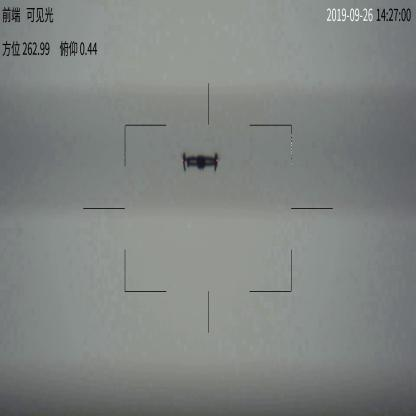uav: (172, 150, 225, 172)
